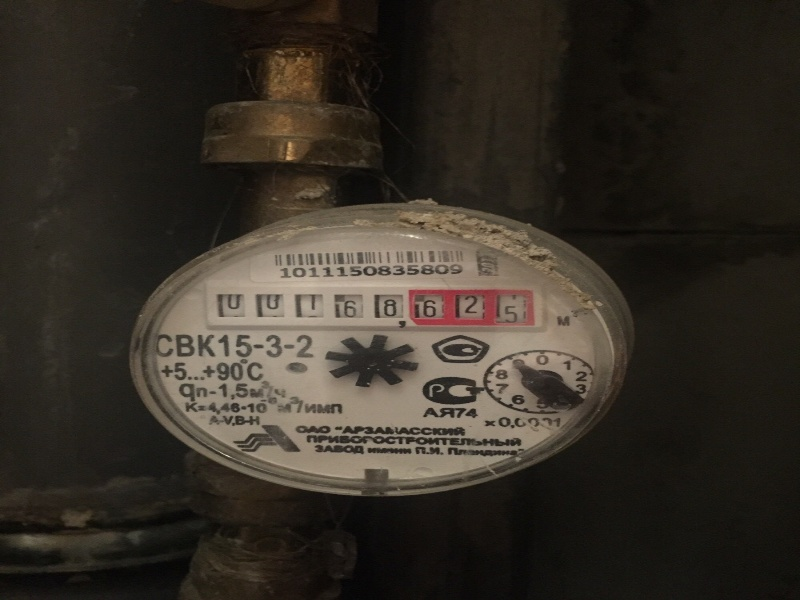meter: (208, 288, 534, 328)
